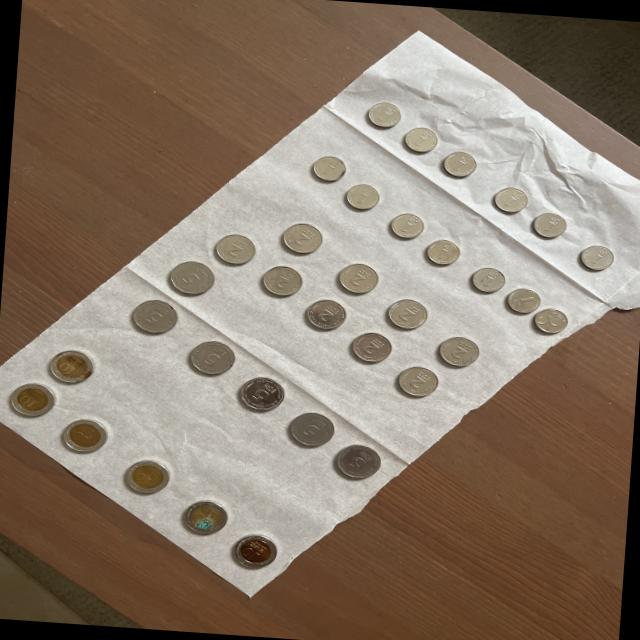1-shekel: (338, 180, 382, 210), (362, 100, 403, 132), (443, 147, 481, 180), (313, 152, 349, 184), (530, 208, 568, 238), (533, 305, 568, 336), (387, 208, 422, 238), (404, 124, 438, 154), (580, 242, 612, 272), (492, 186, 526, 214), (425, 238, 461, 264), (468, 266, 504, 292), (505, 286, 538, 310)
10-shekel: (58, 412, 112, 459), (232, 528, 282, 572), (122, 456, 172, 498), (8, 382, 58, 423), (48, 348, 99, 388), (182, 498, 228, 538)
2-shekel: (383, 294, 430, 332), (436, 334, 481, 370), (214, 235, 258, 269), (276, 220, 320, 254), (396, 367, 441, 399), (301, 294, 344, 326), (260, 264, 302, 296), (350, 331, 391, 363), (336, 262, 374, 296)
5-shekel: (237, 369, 282, 418), (287, 406, 334, 446), (130, 300, 178, 338), (339, 440, 380, 480), (164, 260, 208, 297), (188, 341, 234, 376)
